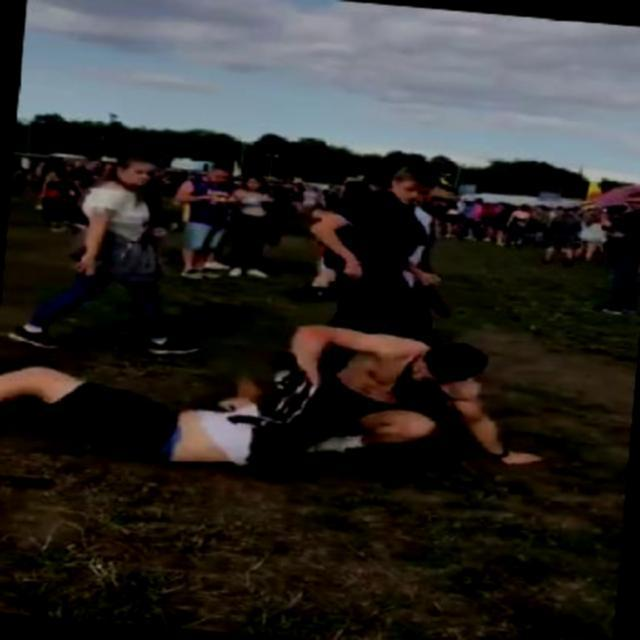fight: (0, 296, 560, 498)
